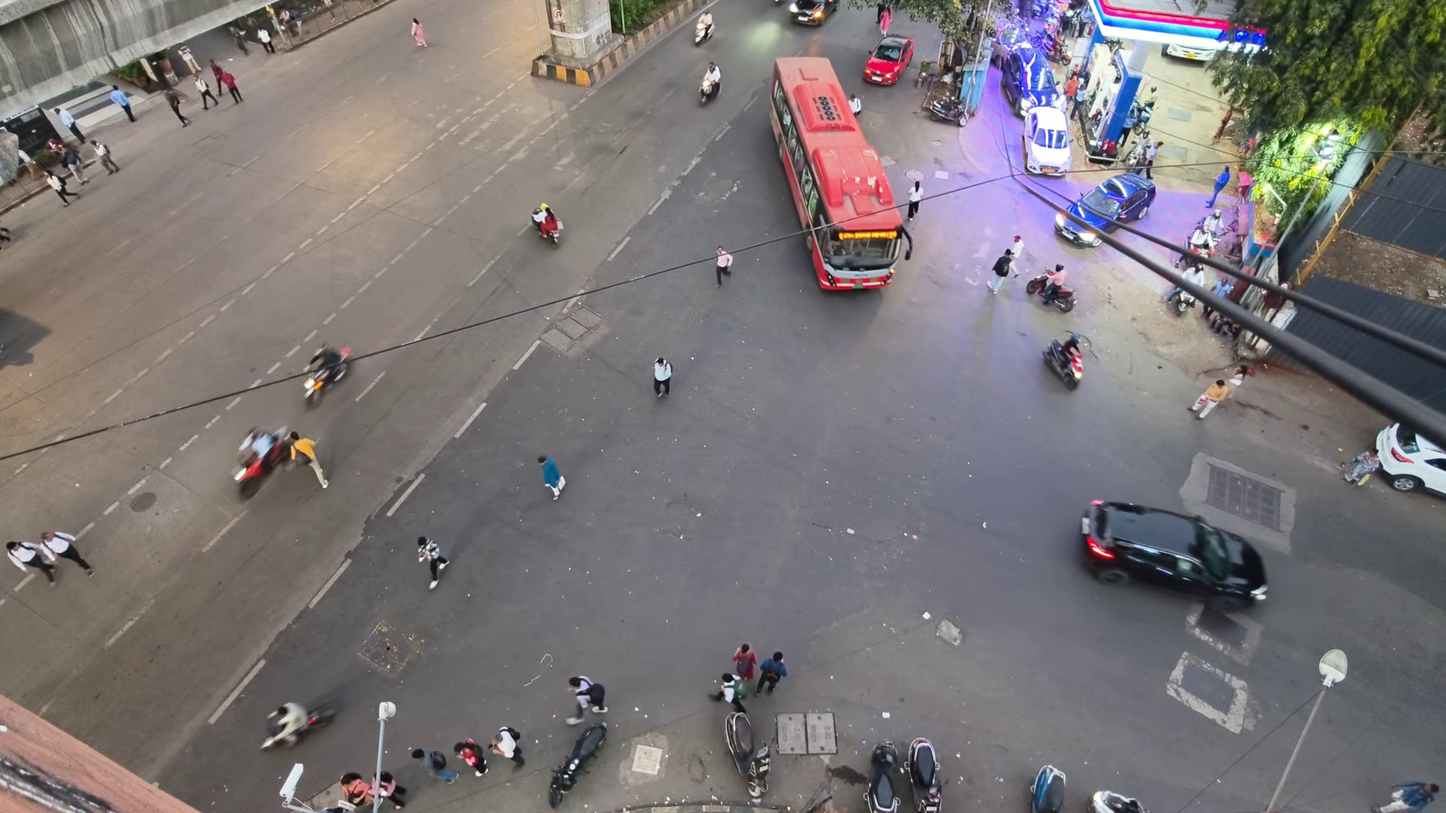walking: (41, 531, 93, 575), (289, 431, 328, 488), (6, 541, 55, 585), (1371, 781, 1438, 812), (566, 675, 607, 724), (411, 748, 458, 783), (417, 536, 448, 589), (1191, 379, 1228, 419), (490, 726, 524, 769), (755, 652, 787, 694), (711, 674, 745, 713), (454, 738, 487, 776), (538, 455, 565, 500), (46, 169, 79, 205), (374, 771, 405, 809), (988, 249, 1014, 294), (340, 772, 373, 805), (53, 107, 84, 142), (1206, 165, 1230, 208), (109, 85, 136, 122), (163, 88, 189, 126), (61, 147, 87, 184), (732, 643, 757, 681), (91, 140, 119, 173), (1210, 105, 1234, 143), (194, 73, 218, 109), (653, 357, 672, 397), (715, 245, 733, 287), (1142, 142, 1161, 179), (1069, 80, 1088, 117), (221, 72, 243, 102), (907, 181, 923, 221), (229, 26, 248, 55), (257, 27, 276, 53), (209, 59, 224, 90), (411, 17, 426, 46), (879, 6, 892, 35), (1011, 235, 1023, 261), (849, 94, 862, 116)
